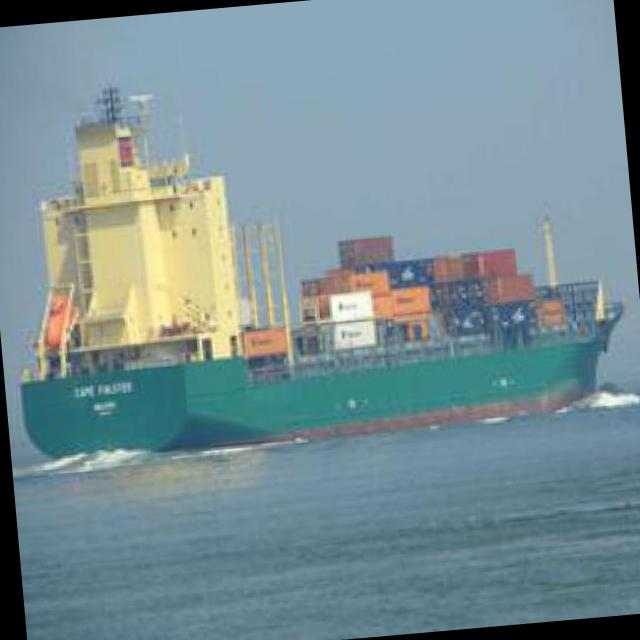boat: (7, 138, 622, 458)
